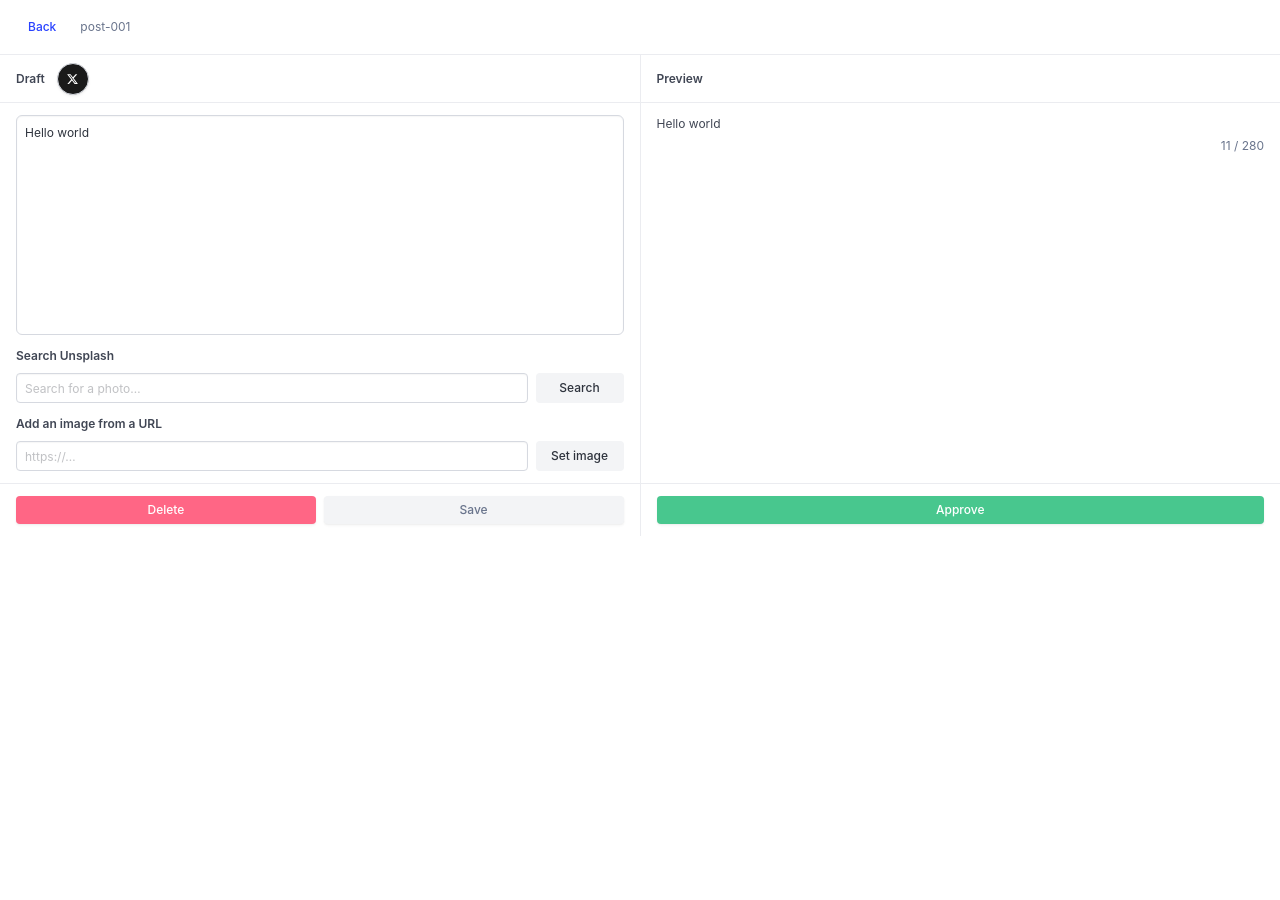
Scenario: EditPostView — DeleteModal background click cancels › hides delete confirmation when modal background is clicked
Click the button "Delete". click: (166, 510)
box: [16,496,316,524]
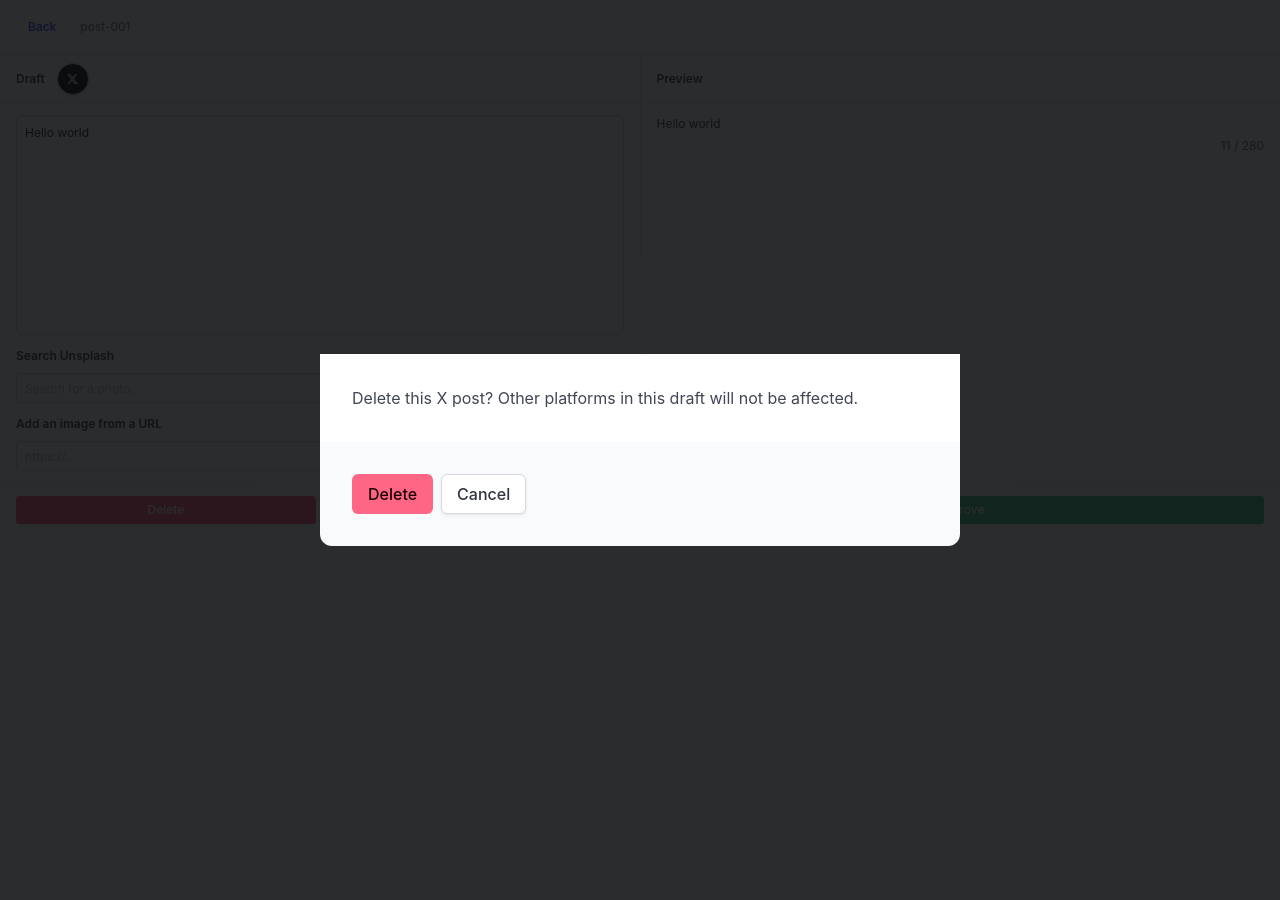
Result: the dialog is shown
Click the element with class "modal-background". click: (77, 450)
box: [0,0,1279,899]
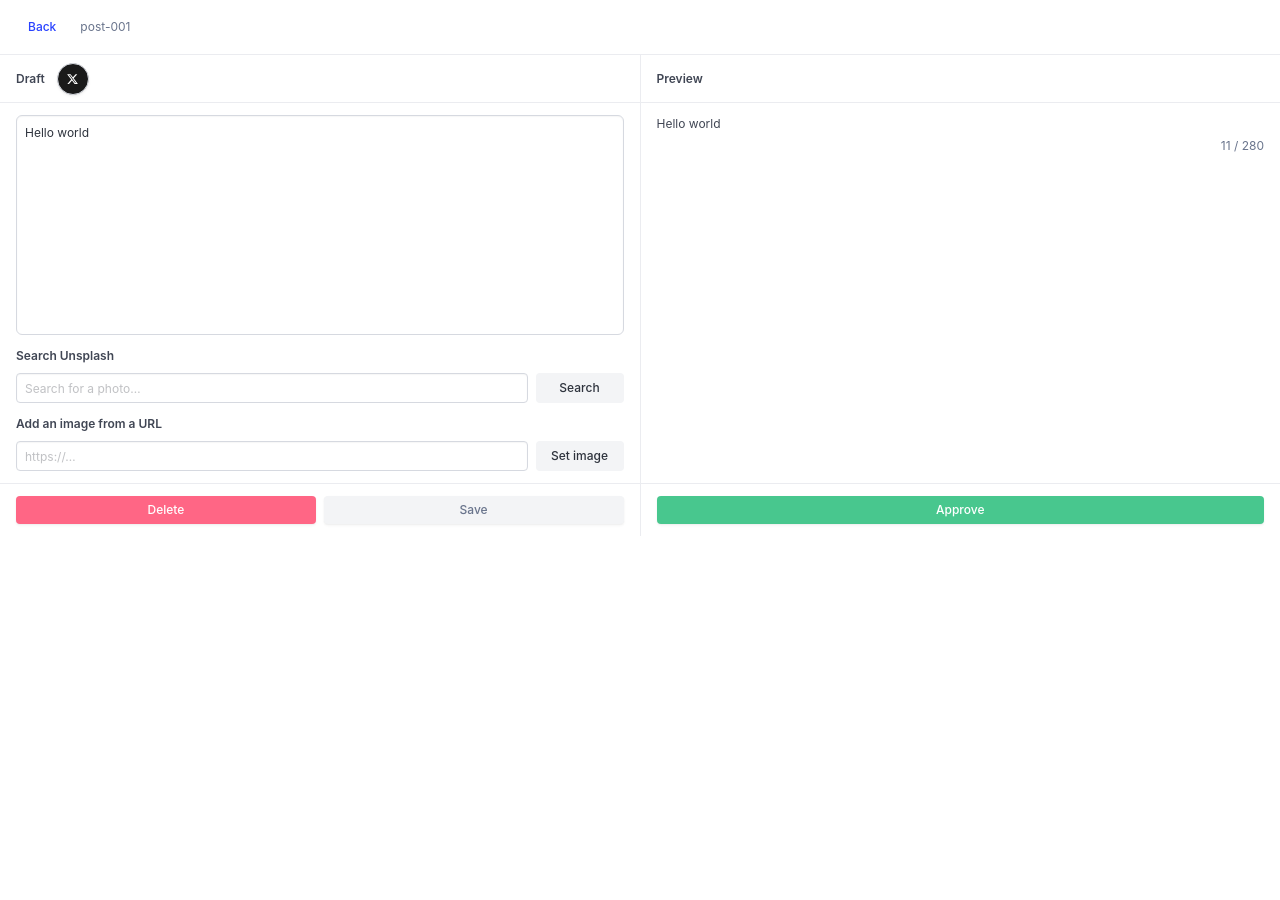
Result: the button with test id "confirm-delete" is gone
